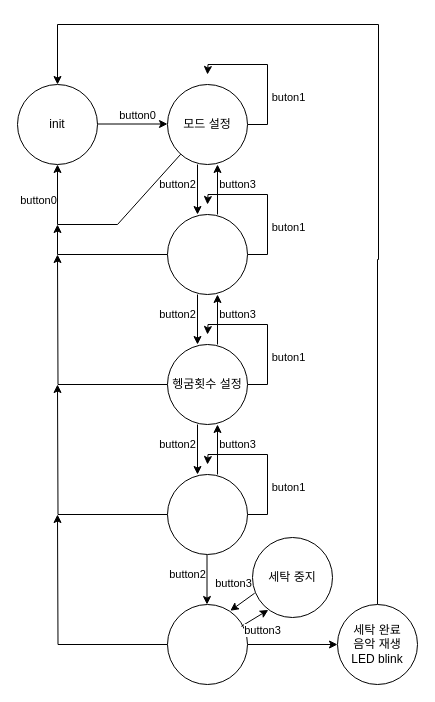
This 435x702 diagram has some shape labels left out. The shapes that lost their labels are listed below. From the top down, each one's box as (x1, y1, x2, y2) in pixels, then its label:
(166, 214, 248, 294): 세탁시간 설정
(166, 474, 248, 554): 탈수시간 설정
(166, 604, 248, 684): 세탁중
